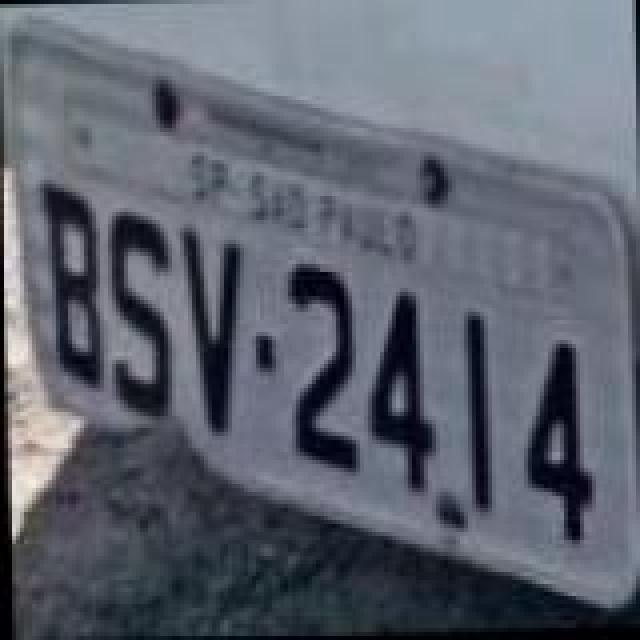1: (462, 312, 494, 520)
2: (286, 266, 362, 478)
4: (520, 342, 600, 550), (360, 290, 436, 498)
B: (44, 176, 108, 392)
S: (104, 212, 176, 424)
V: (178, 228, 246, 436)
